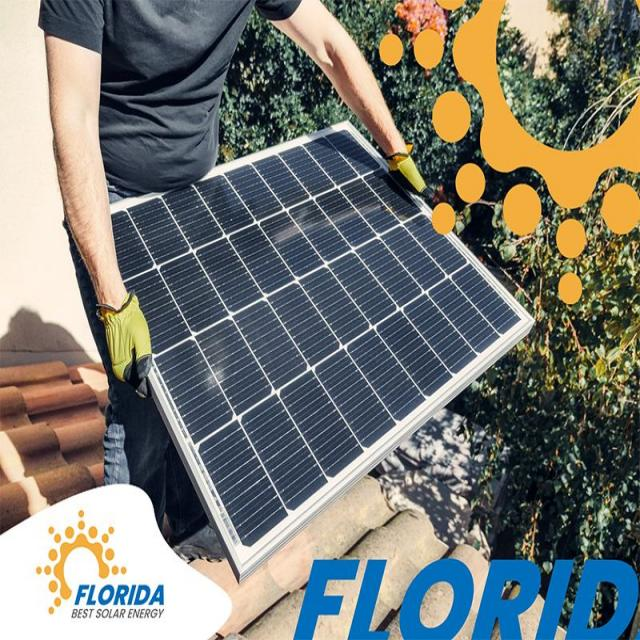no faulty: (112, 133, 517, 555)
